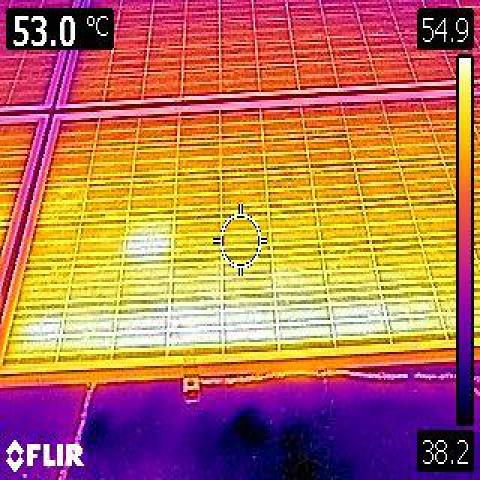fault: (28, 303, 410, 357), (123, 229, 166, 266)
